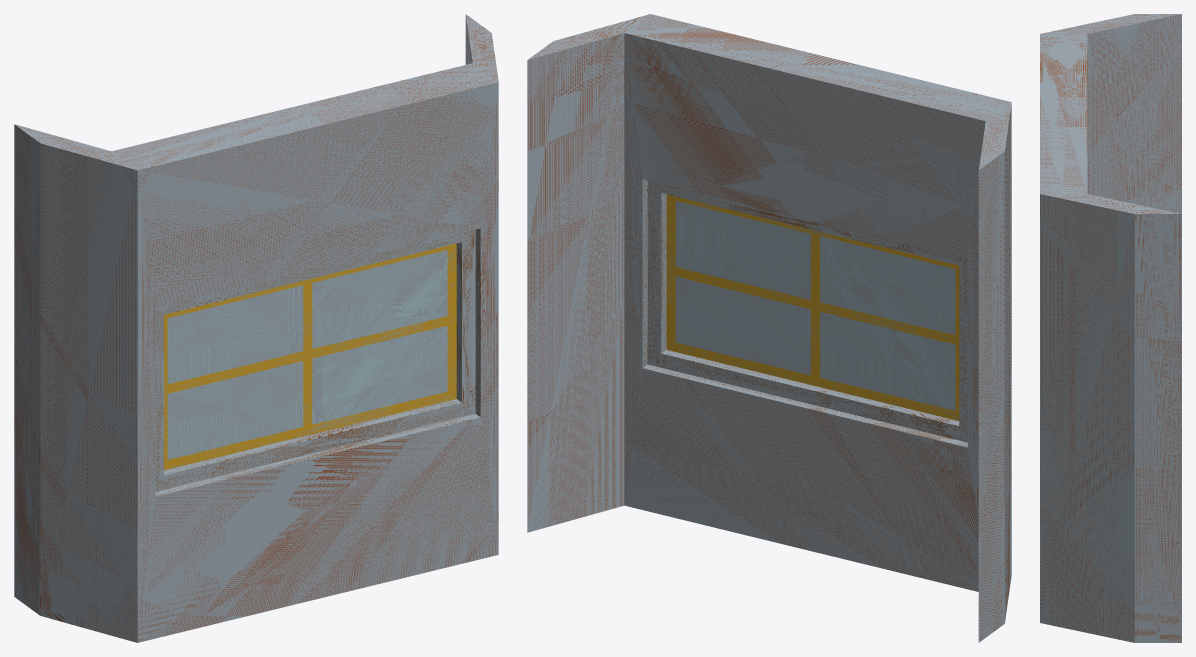
The model's file is window_bay_3.fbx.
The picture shows the model from 3 angles, left to right: view 1: azimuth 30°, elevation 25°; view 2: azimuth 150°, elevation 25°; view 3: azimuth 270°, elevation 25°; orthographic projection. The views are drawn at different scales.
Parts seen in each view (by area): view 1: Mesh1_window_17_1 Model; view 2: Mesh1_window_17_1 Model; view 3: Mesh1_window_17_1 Model.
Part boxes in pixels (bbox=[...]): Mesh1_window_17_1 Model: bbox=[14, 14, 498, 642]; Mesh1_window_17_1 Model: bbox=[527, 14, 1011, 642]; Mesh1_window_17_1 Model: bbox=[1040, 14, 1181, 642].
Size of the model in its own units: 1 by 1 by 0.3.
